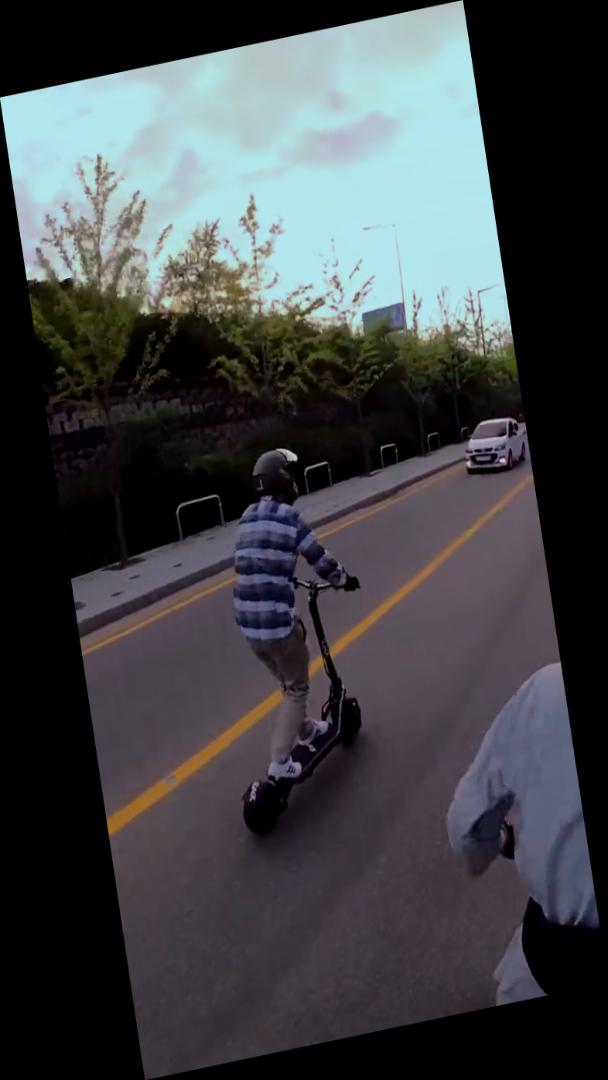helmet: (189, 427, 398, 843)
